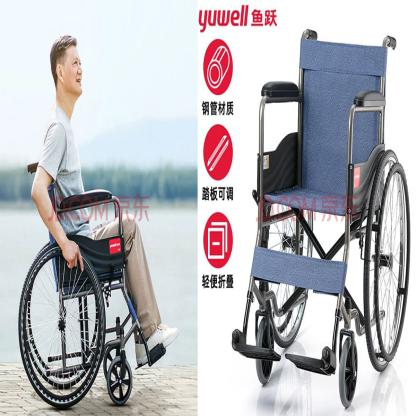wheelchair: (18, 31, 180, 408)
